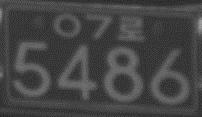0: (52, 11, 82, 38)
4: (56, 44, 98, 100)
5: (13, 41, 51, 98)
6: (149, 47, 191, 106)
7: (85, 12, 113, 39)
8: (102, 46, 145, 104)
로: (117, 14, 147, 41)
